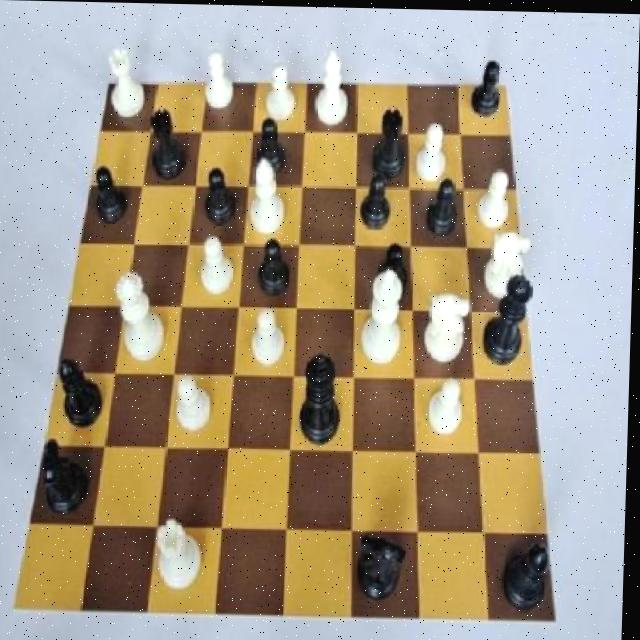bishop: (54, 347, 119, 437), (498, 519, 559, 614)
black-bishop: (296, 346, 351, 448)
black-king: (354, 519, 417, 619), (34, 433, 99, 519)
black-knight: (197, 157, 247, 229), (356, 160, 402, 235), (87, 160, 137, 227), (465, 50, 511, 122), (425, 170, 468, 243), (250, 112, 296, 180), (253, 231, 299, 299), (375, 233, 415, 299)
black-pawn: (478, 259, 540, 376)
black-queen: (142, 100, 196, 188), (367, 98, 416, 183)
black-rook: (242, 151, 300, 239), (308, 44, 361, 131)
white-bishop: (359, 262, 416, 368)
white-king: (416, 281, 479, 371), (480, 218, 541, 305)
white-knight: (423, 360, 476, 443), (245, 300, 294, 373), (475, 156, 518, 236), (175, 368, 222, 440), (411, 115, 455, 188), (201, 41, 241, 121), (198, 232, 242, 301), (265, 52, 301, 133)
white-pawn: (103, 260, 177, 369)
white-queen: (146, 504, 217, 602), (100, 39, 153, 129)
